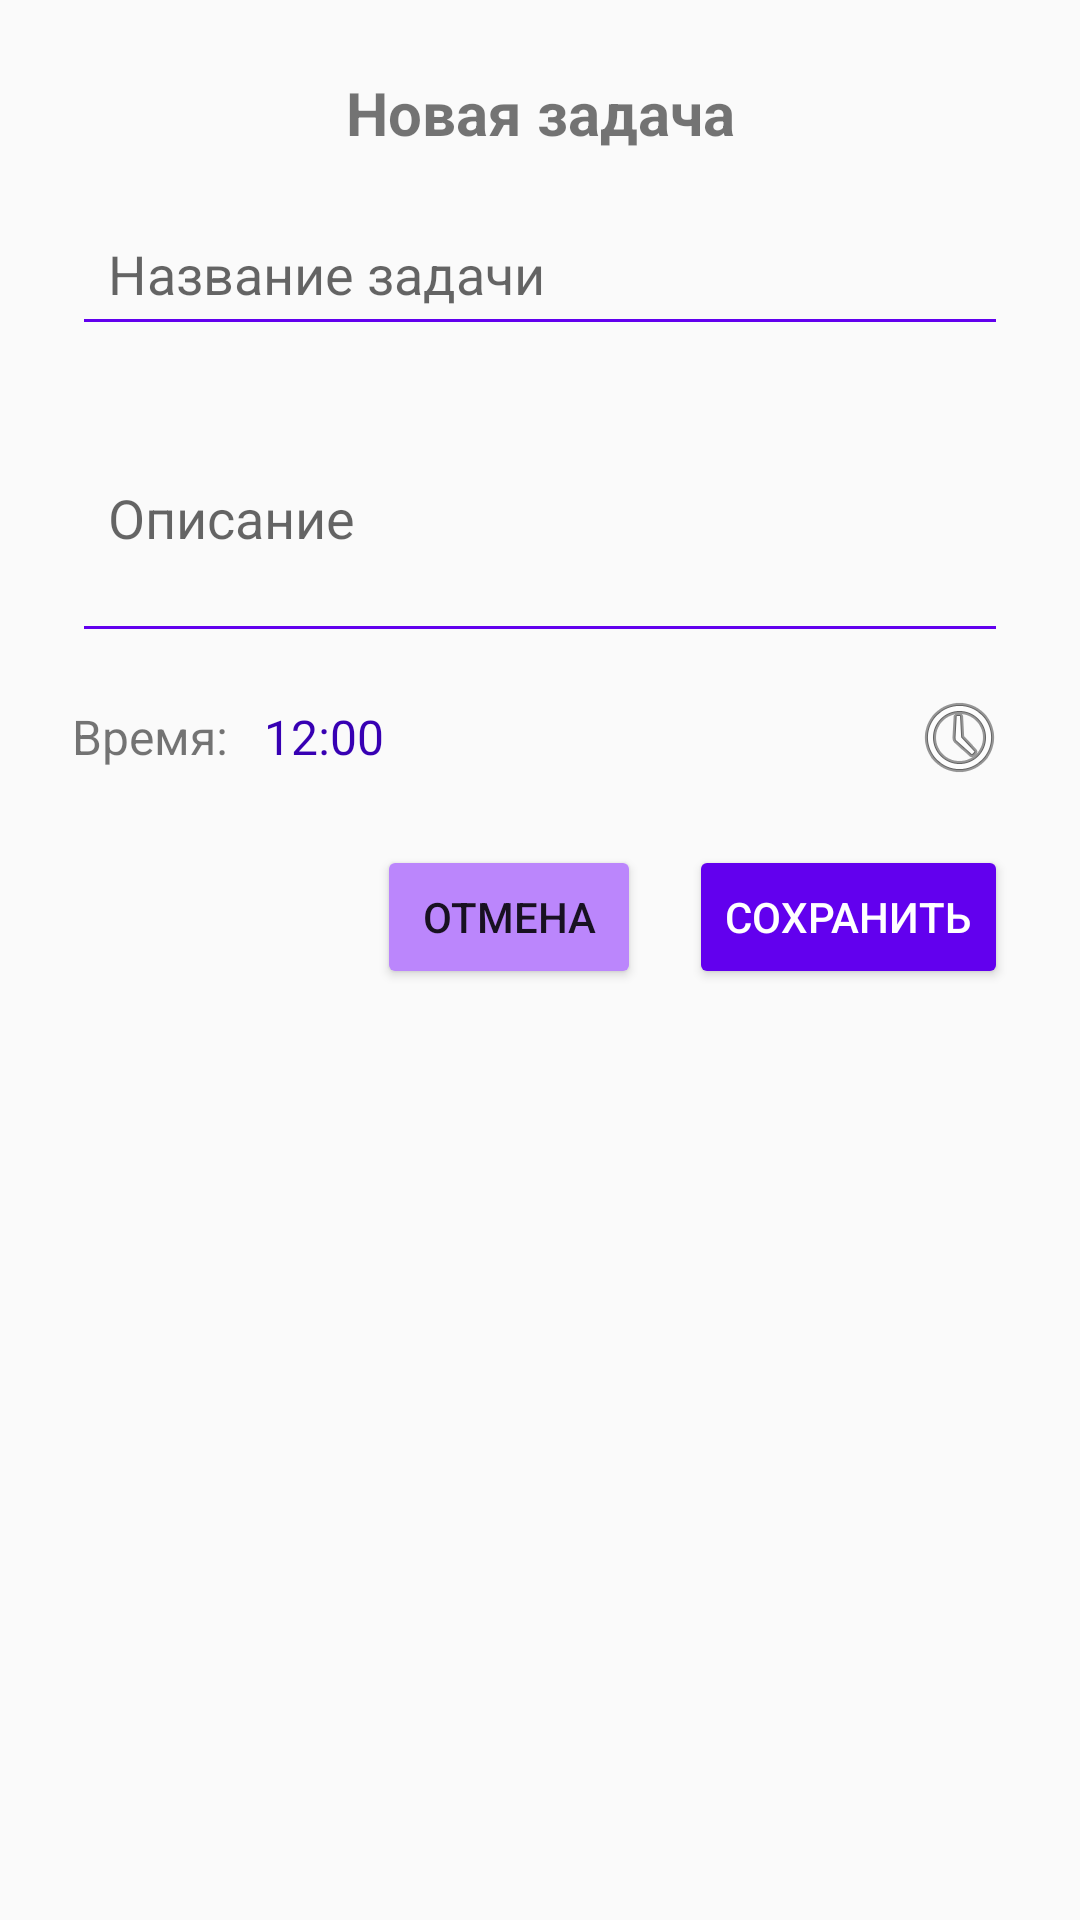

Named icons in this screenshot (1080 × 1920) and their centers, point (x, y):
Выбрать время: point (959, 737)
